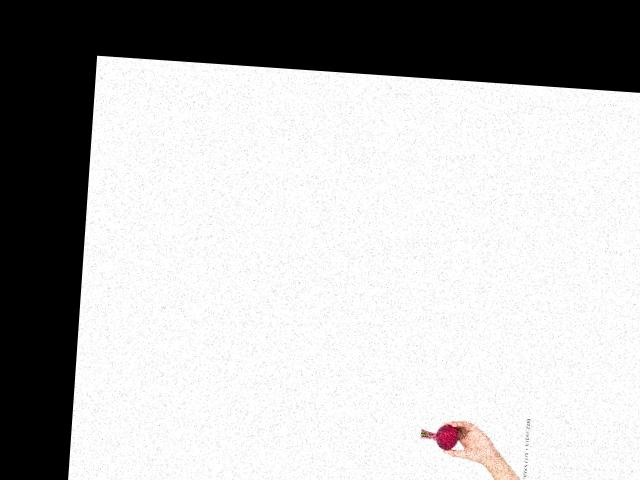beet: (419, 421, 459, 450)
